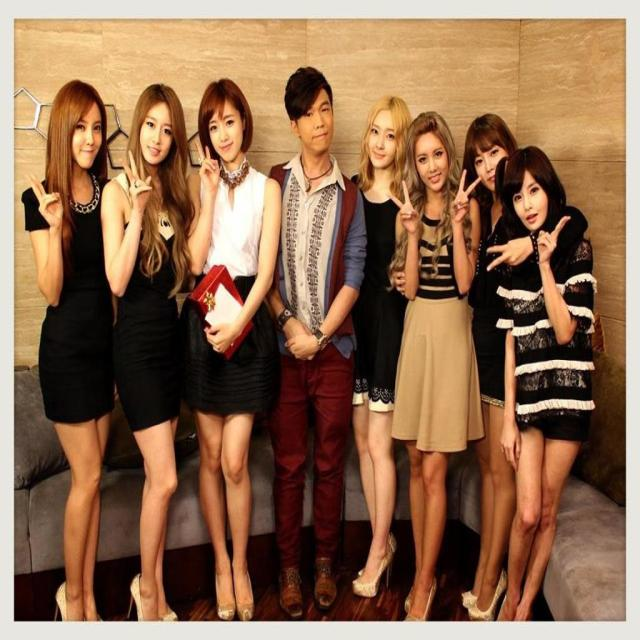Face: (130, 89, 186, 170), (355, 96, 408, 179), (411, 119, 465, 198), (68, 88, 109, 183), (202, 95, 250, 175), (504, 171, 561, 233), (295, 83, 339, 156), (468, 135, 513, 190)
